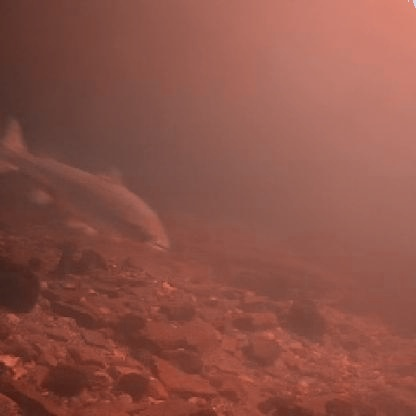salmon: (0, 116, 176, 260)
